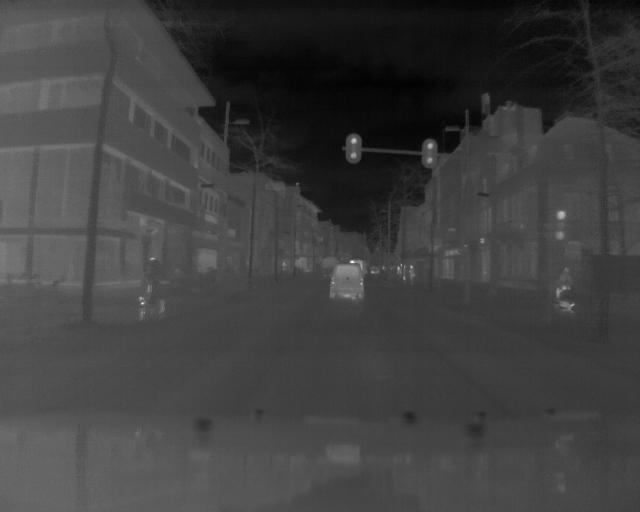car: (330, 258, 369, 301)
person: (138, 250, 169, 314), (550, 263, 574, 302), (408, 259, 417, 286)
